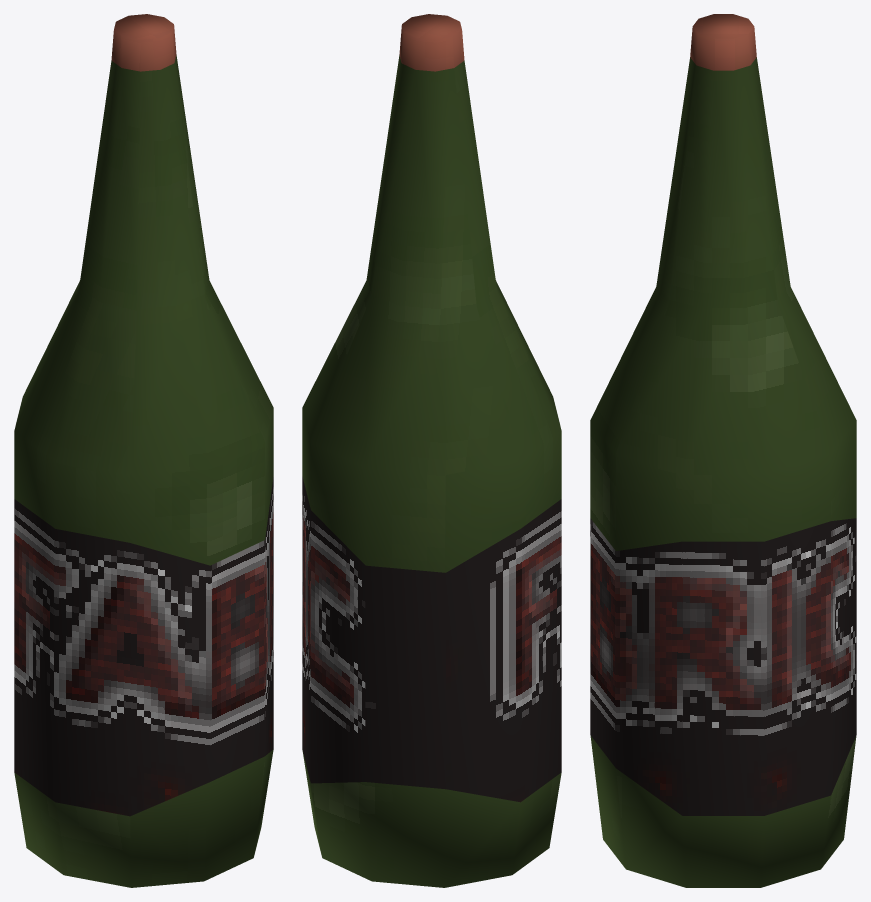
File: Beer.glb
3 views of the same model, side by side, from view 1: azimuth 30°, elevation 25°; view 2: azimuth 150°, elevation 25°; view 3: azimuth 270°, elevation 25° (orthographic).
Visible parts, largest first — view 1: Beer2; view 2: Beer2; view 3: Beer2.
Boxes of the visible parts, x1=… form: Beer2: x1=14, y1=14, x2=273, y2=887; Beer2: x1=302, y1=14, x2=561, y2=887; Beer2: x1=590, y1=14, x2=856, y2=887.
Size of the model in its own units: 0.1905 by 0.6754 by 0.2003.
Materials: 2 (2 with a texture image).
